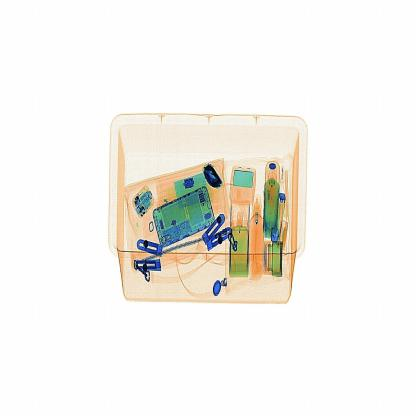scissors: (198, 154, 230, 201)
